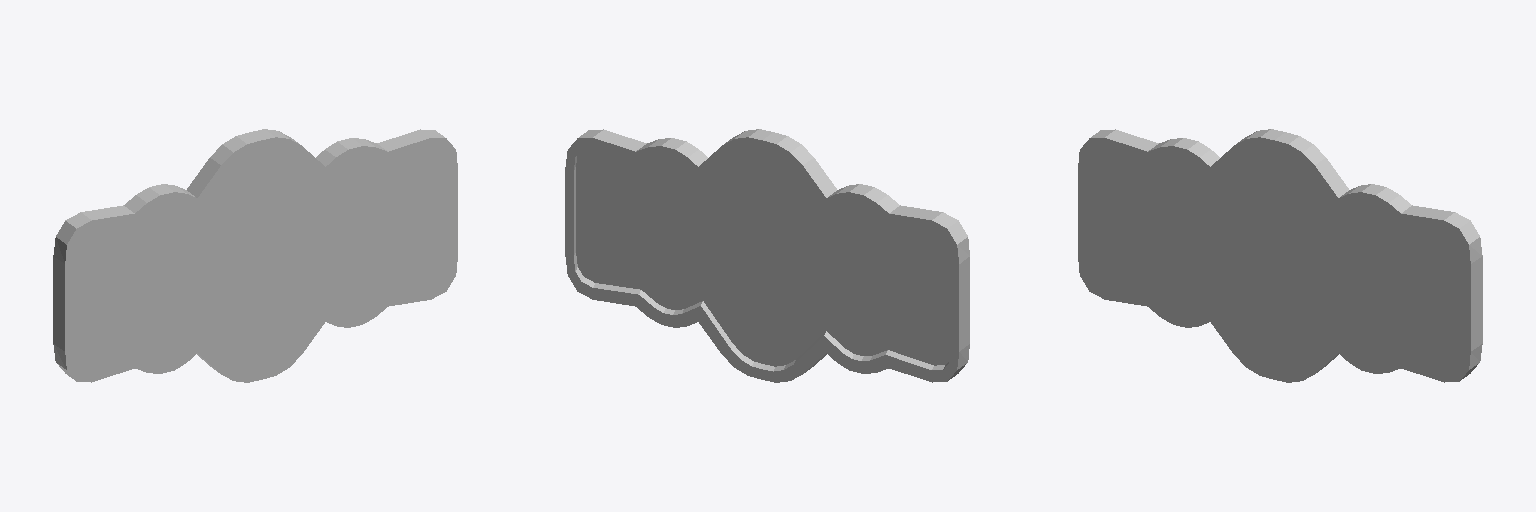
Rendered from circusName.obj.
3 renders of one model, left to right at view 1: azimuth 30°, elevation 25°; view 2: azimuth 150°, elevation 25°; view 3: azimuth 330°, elevation 25°, orthographic.
Visible parts, largest first — view 1: Object_8; view 2: Object_8; view 3: Object_8.
Boxes of the visible parts, x1,y1,x2,y2 form: Object_8: [53, 129, 457, 382]; Object_8: [565, 129, 969, 382]; Object_8: [1078, 129, 1482, 382].
Size of the model in its own units: 2.38 by 1.38 by 0.1177.